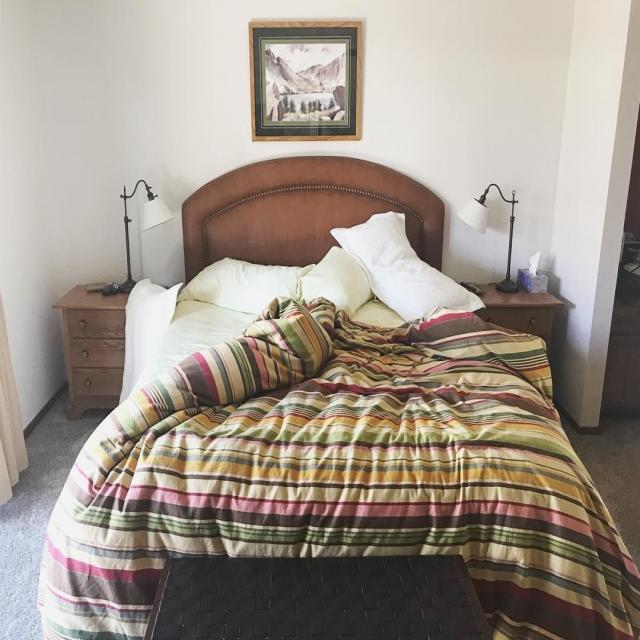bed: (81, 212, 533, 582)
